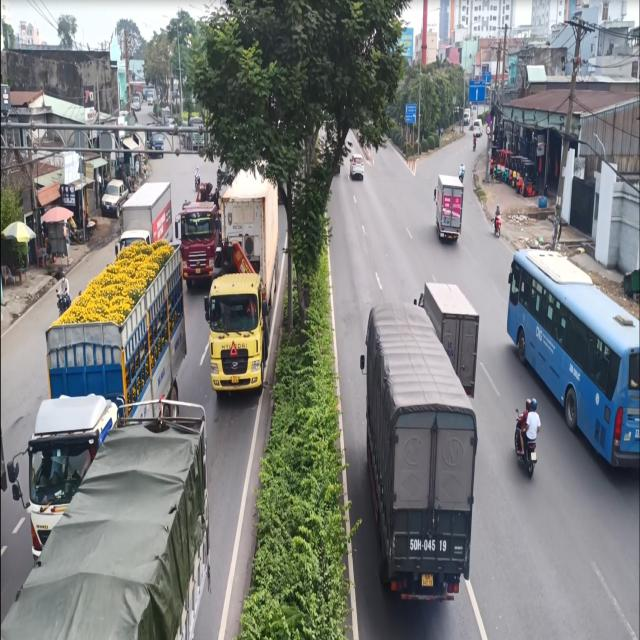motor: (502, 236, 640, 473)
